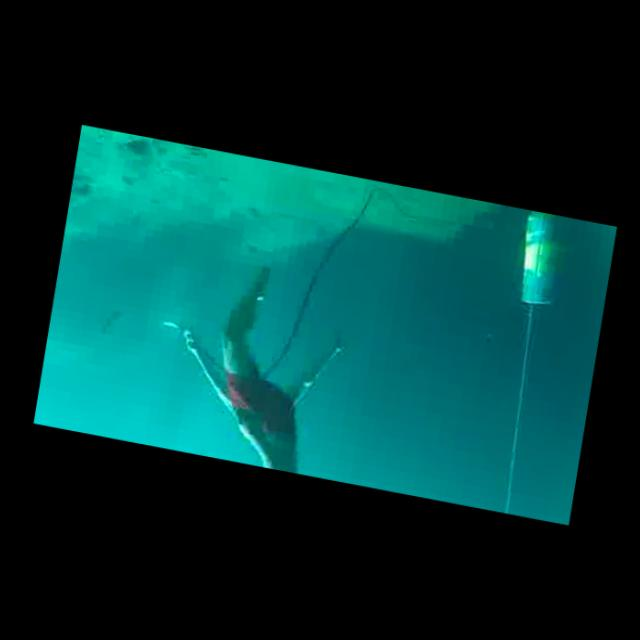human: (137, 239, 360, 478)
